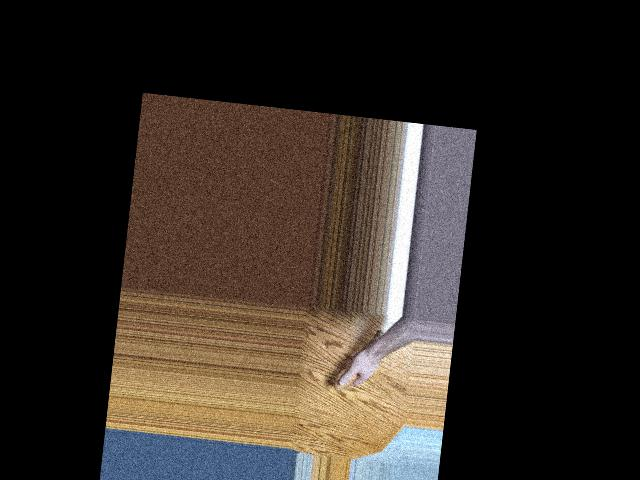sweet_potato: (333, 323, 385, 395)
